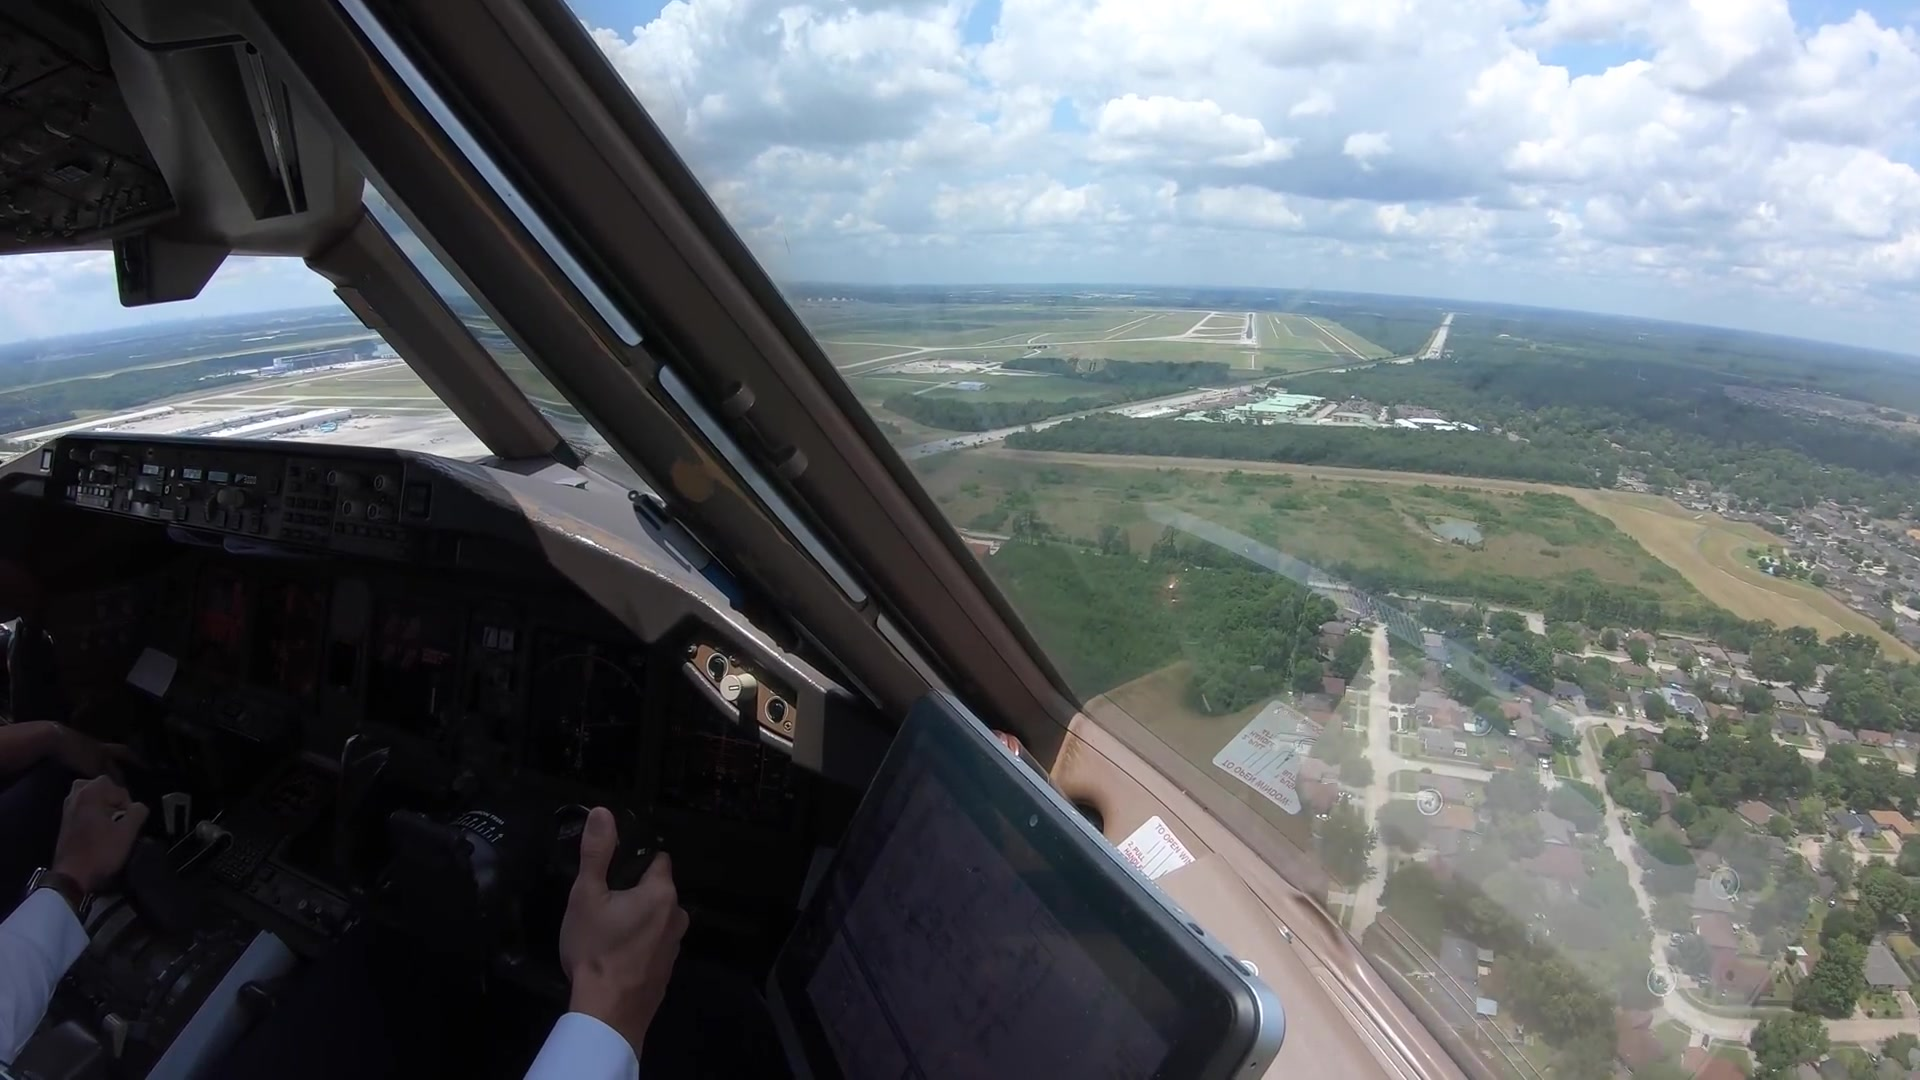runway: (1240, 313, 1258, 345)
